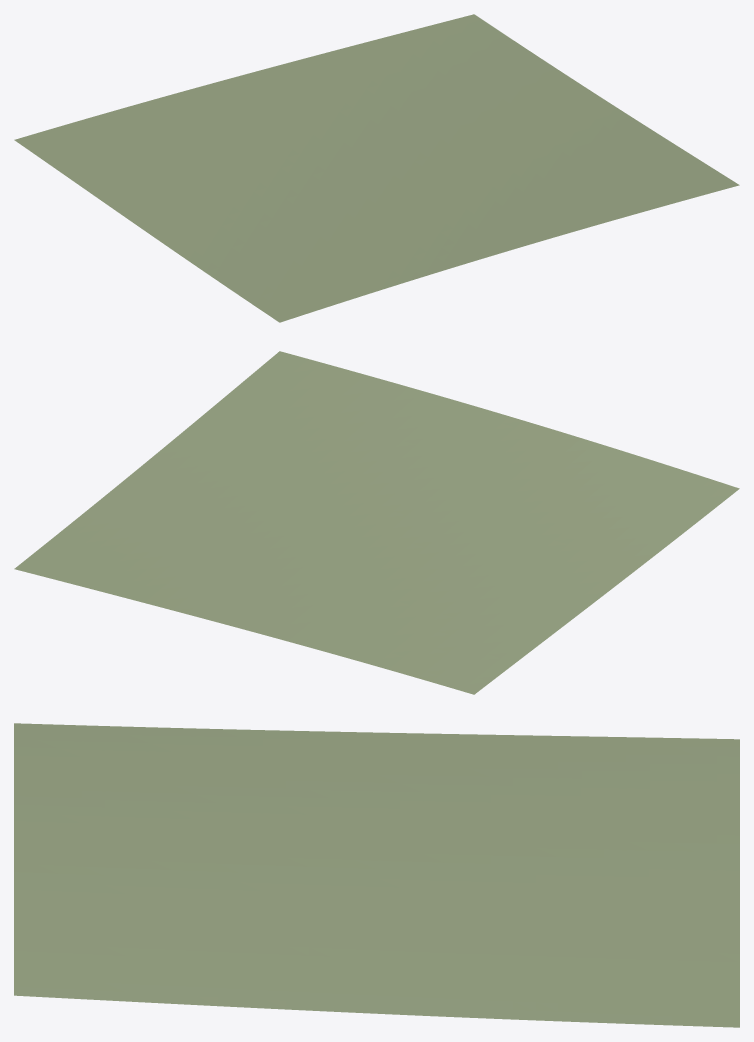
The model's file is expanse-21-11.glb.
3 views of the same model, one above another, from view 1: azimuth 30°, elevation 25°; view 2: azimuth 150°, elevation 25°; view 3: azimuth 270°, elevation 25° (orthographic). The views are drawn at different scales.
Parts seen in each view (by area): view 1: expanse-21-11; view 2: expanse-21-11; view 3: expanse-21-11.
Boxes of the visible parts, left/top/right/bottom form: expanse-21-11: left=14, top=14, right=739, bottom=322; expanse-21-11: left=14, top=351, right=739, bottom=694; expanse-21-11: left=14, top=723, right=739, bottom=1027.
Bounding box in the file's own units: 256 × 19.62 × 256.
